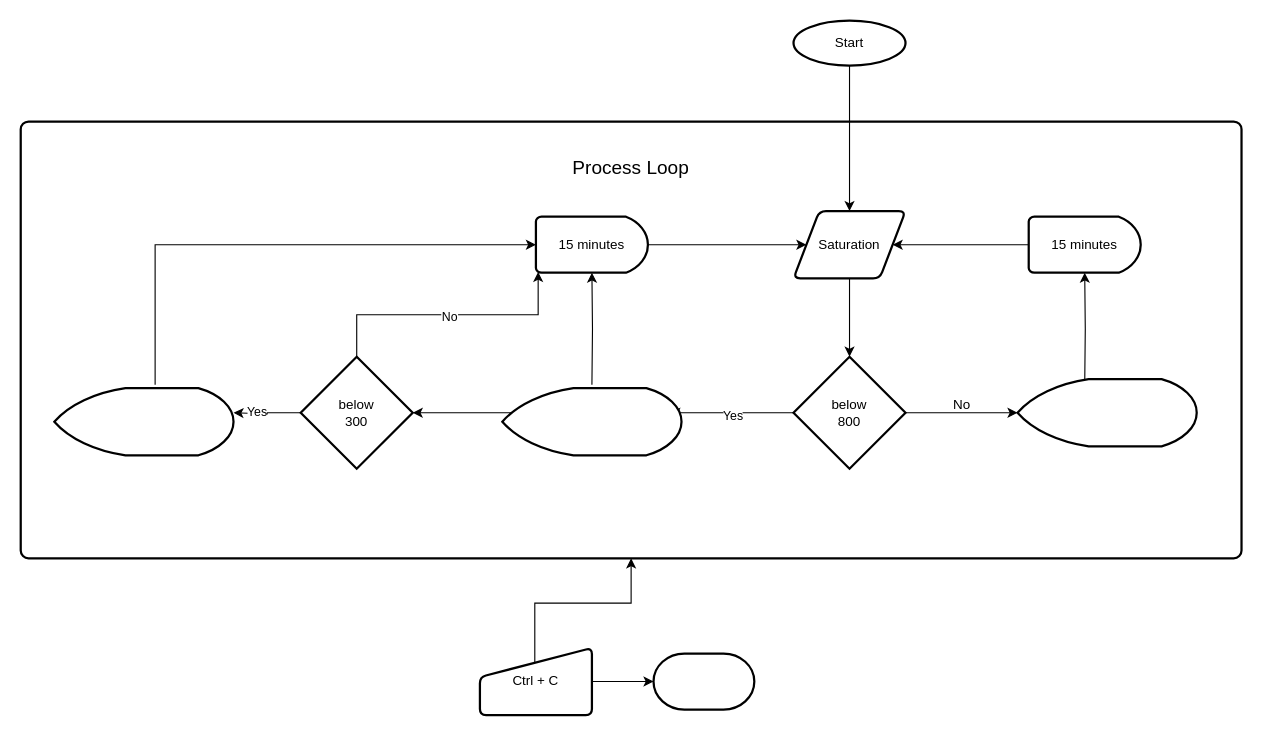
Some shapes in this 1261 by 735 pixel diagram are drawn without their labels. Each missing label, with the box of its shape:
LED off Thank you, Seymour!: (1016, 377, 1197, 447)
LED on Flash every 1 seconds Feed me!: (53, 386, 234, 456)
LED on Flash every 3 seconds Feed me!: (501, 386, 682, 456)
terminate program: (652, 652, 755, 710)
